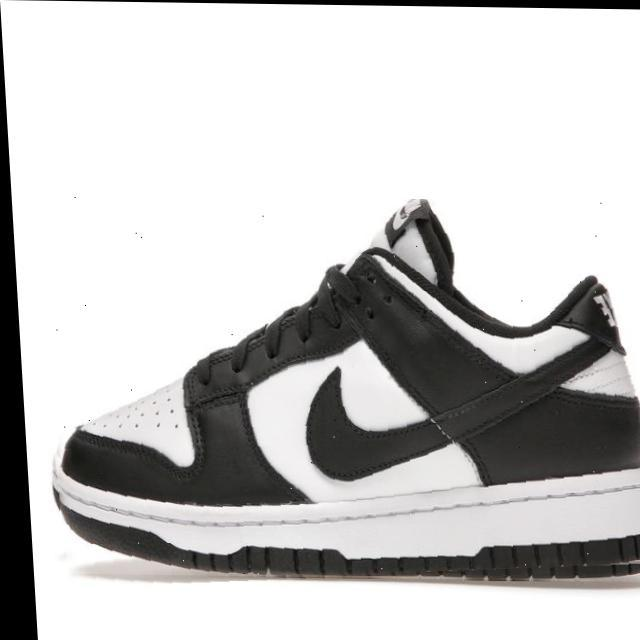J1_InsoleChar: (49, 196, 639, 587)
J1_StitchPattern: (51, 475, 637, 584), (190, 245, 445, 405), (188, 534, 638, 583), (226, 265, 365, 374), (72, 373, 205, 475), (195, 306, 325, 400), (471, 535, 636, 582), (229, 303, 321, 370), (189, 543, 348, 578), (258, 300, 331, 358), (100, 388, 184, 436), (589, 284, 626, 354), (263, 306, 301, 358), (230, 323, 269, 371), (388, 195, 431, 232)
